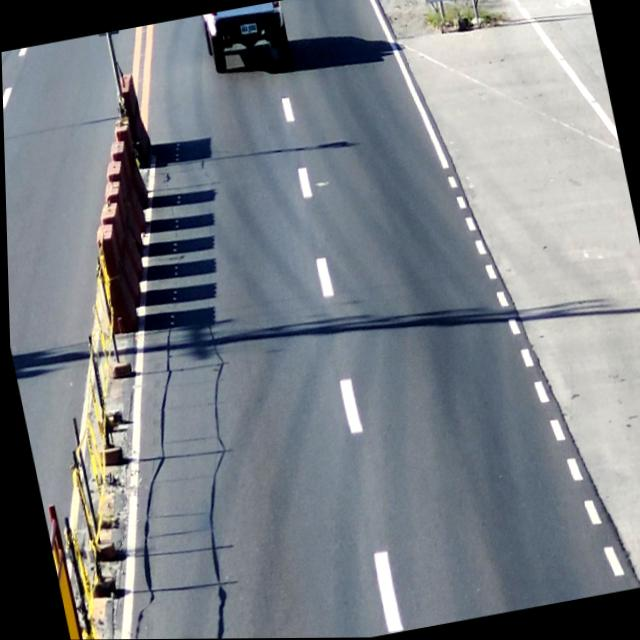Car: (198, 0, 293, 78)
